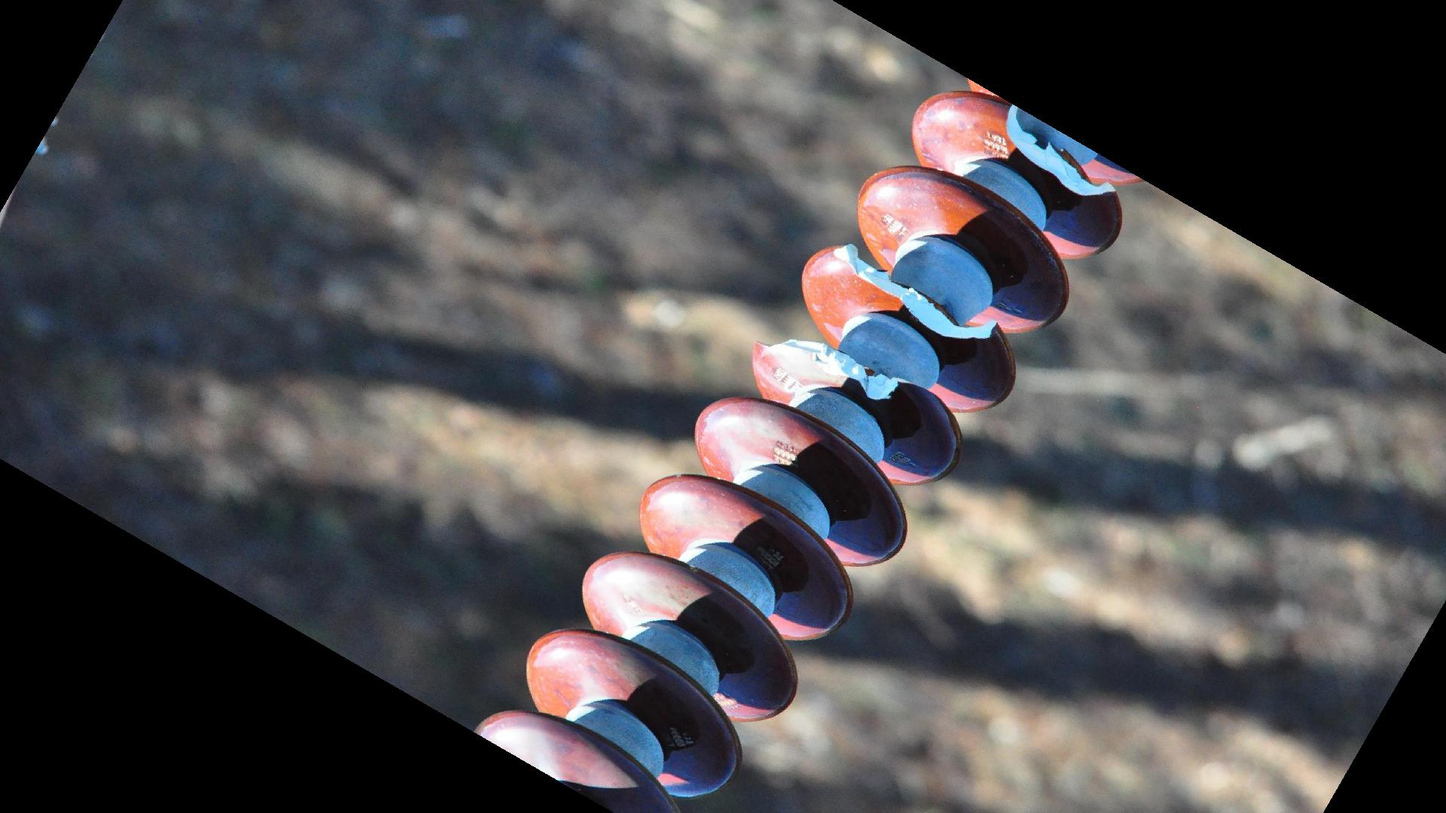insulator: (467, 83, 1134, 813)
insulator_breakage: (830, 238, 1005, 352), (739, 333, 931, 408), (996, 99, 1121, 210)
